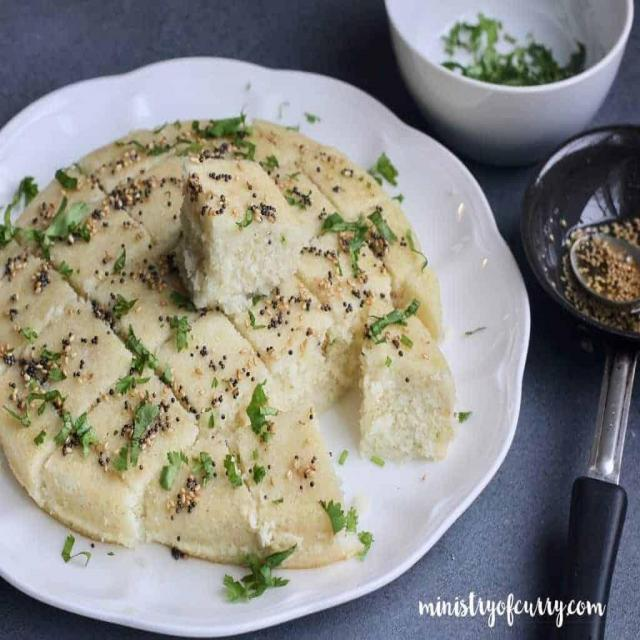dhokla: (2, 120, 438, 566)
